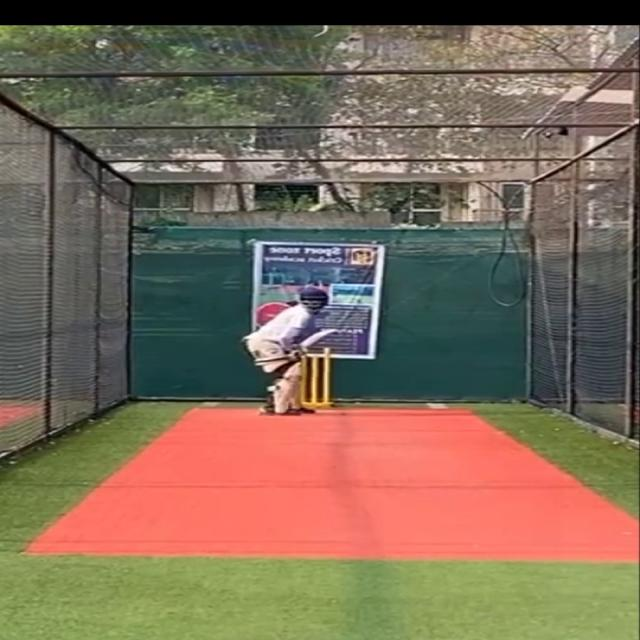stump: (298, 345, 338, 407)
